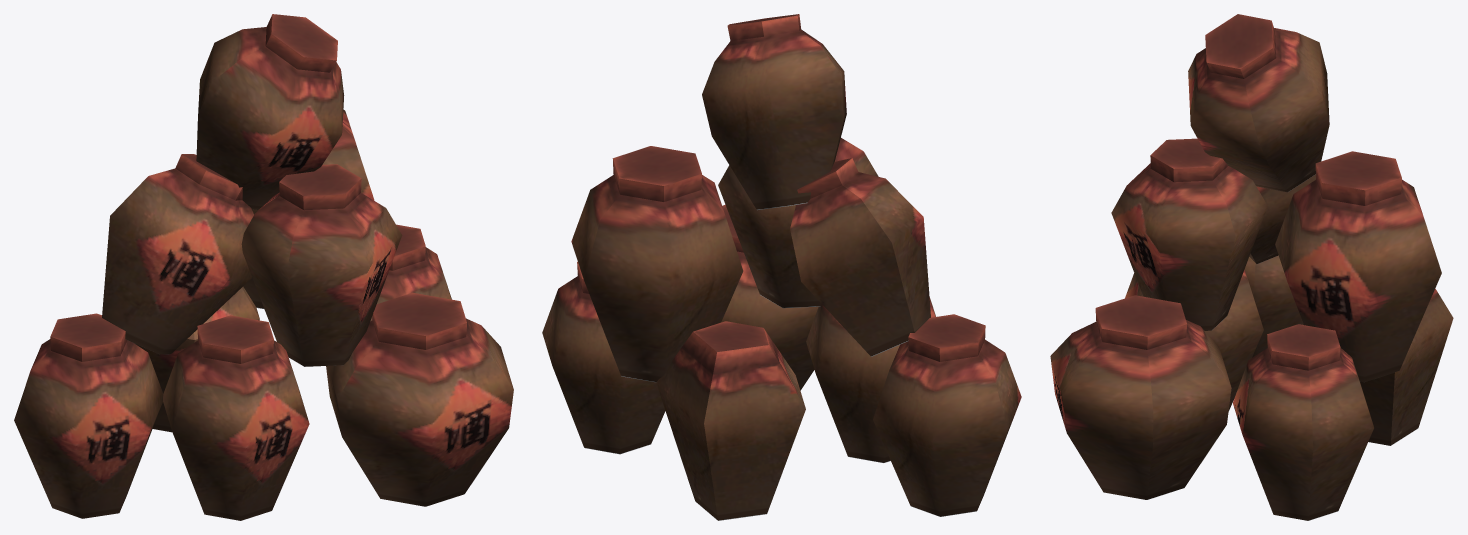
Rendered from M5_P_jiutan2.FBX.
3 renders of one model, left to right at view 1: azimuth 30°, elevation 25°; view 2: azimuth 150°, elevation 25°; view 3: azimuth 270°, elevation 25°, orthographic. The views are drawn at different scales.
Visible parts, largest first — view 1: Object011; view 2: Object011; view 3: Object011.
Boxes of the visible parts, x1,y1,x2,y2 form: Object011: (14,14,513,520); Object011: (542,14,1021,520); Object011: (1050,14,1453,520).
Bounding box in the file's own units: 158 × 146 × 126.
